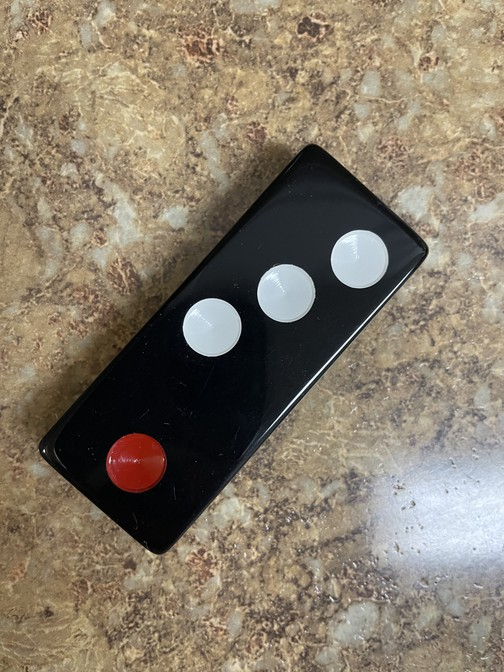goose: (37, 143, 429, 558)
